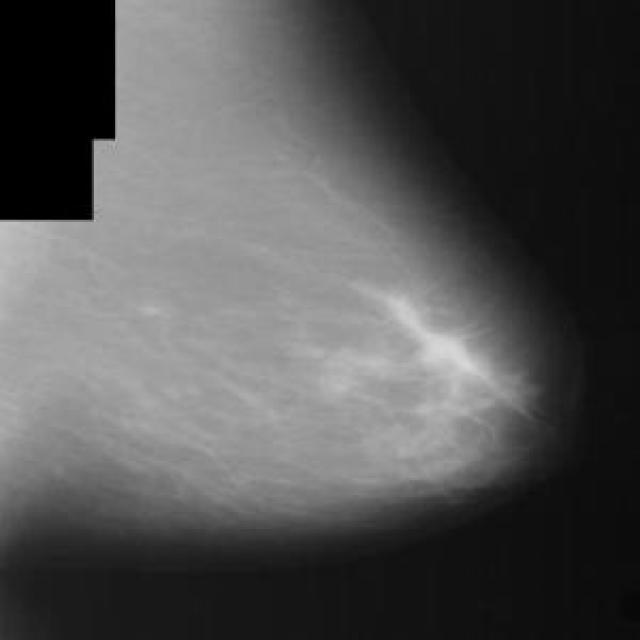tumor: (353, 275, 528, 467)
